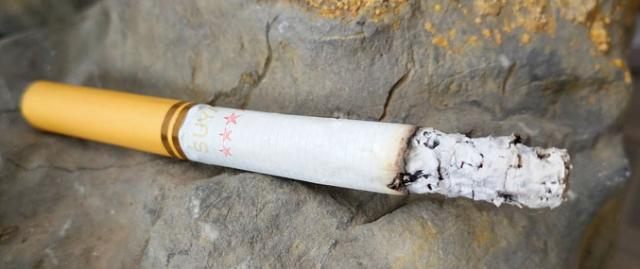Smoking: (21, 80, 573, 212)
